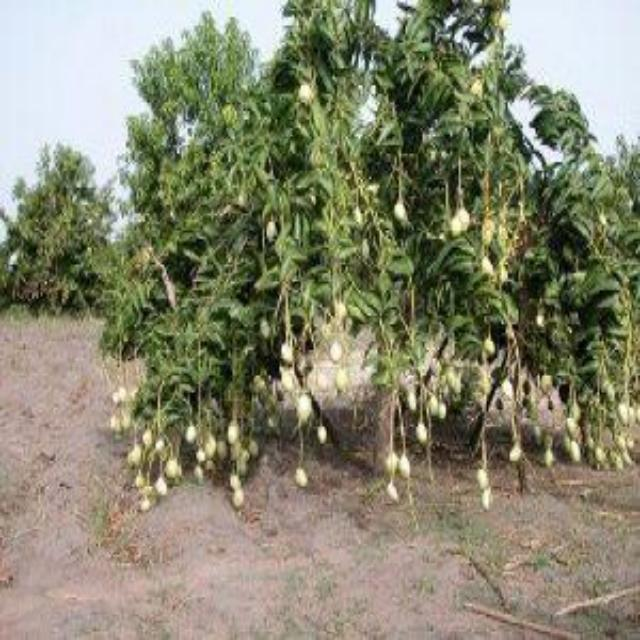tree: (102, 1, 636, 510)
